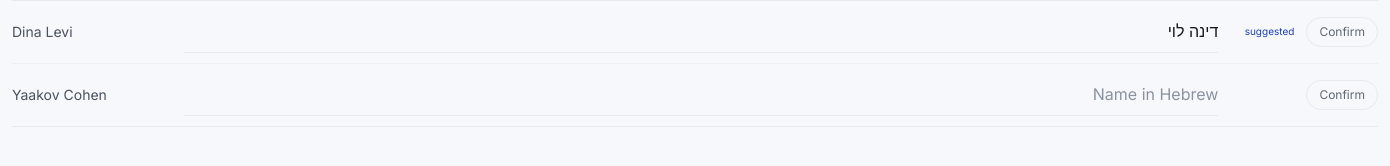
Test: /admin/names — a refused save › says so in en when the action never answers at all
Click the button "Confirm" next to "suggested". click: {"x": 1342, "y": 32}
box: [1306,17,1378,47]
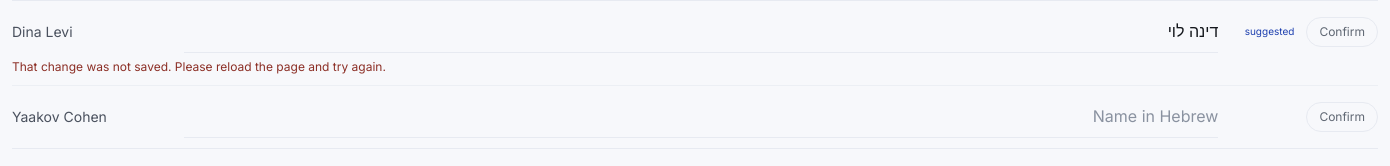
Result: the text "That change was not saved. Please reload the page and try again." is shown at [12,59,386,74]
